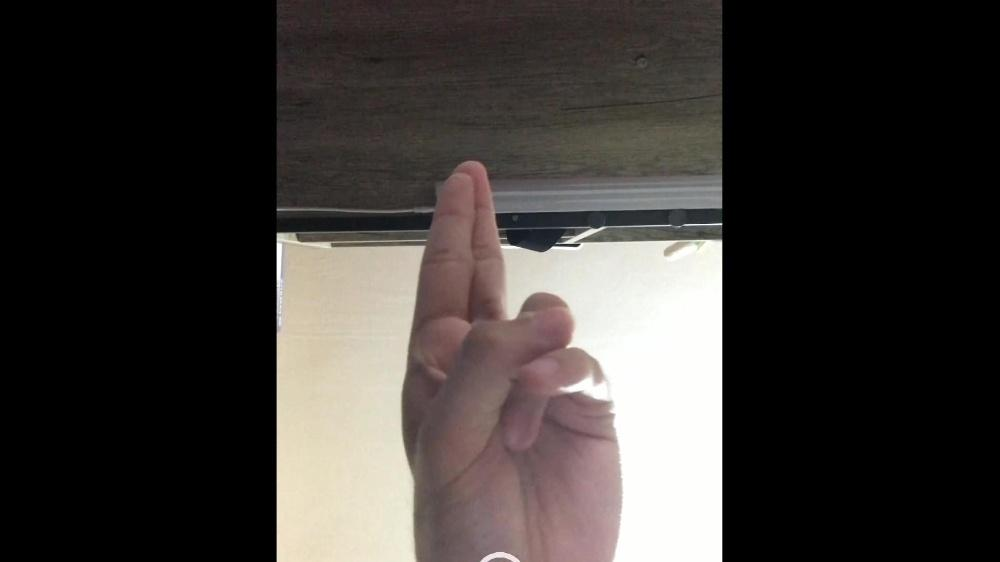r: (400, 158, 620, 562)
